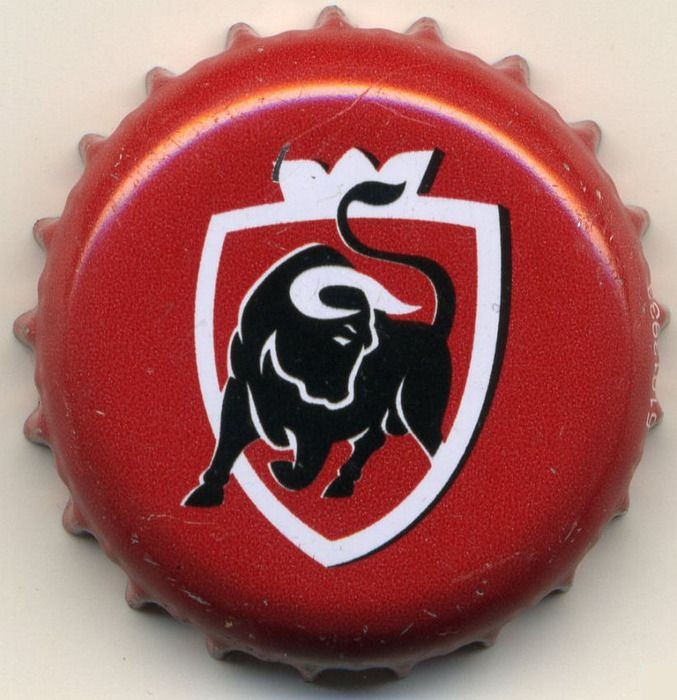jupiler: (16, 3, 671, 689)
